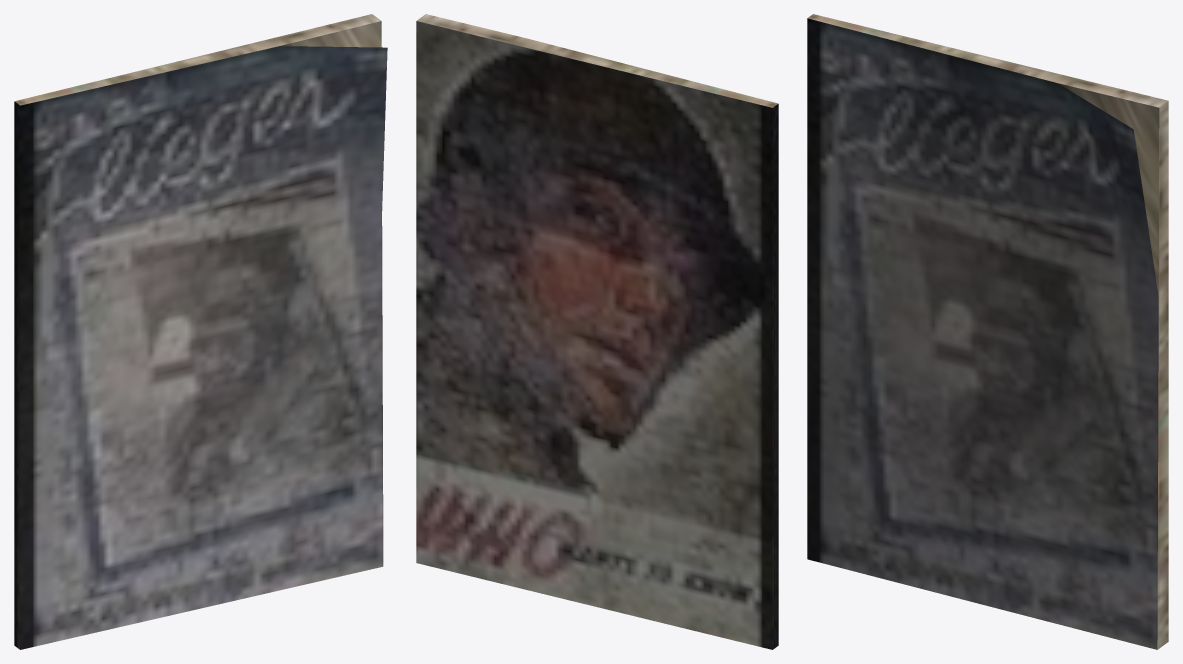
The model's file is prop_magazine1.glb.
3 renders of one model, left to right at view 1: azimuth 30°, elevation 25°; view 2: azimuth 150°, elevation 25°; view 3: azimuth 330°, elevation 25°, orthographic.
Size of the model in its own units: 8.75 by 12.73 by 1.07.
Materials: 1 (1 with a texture image).
